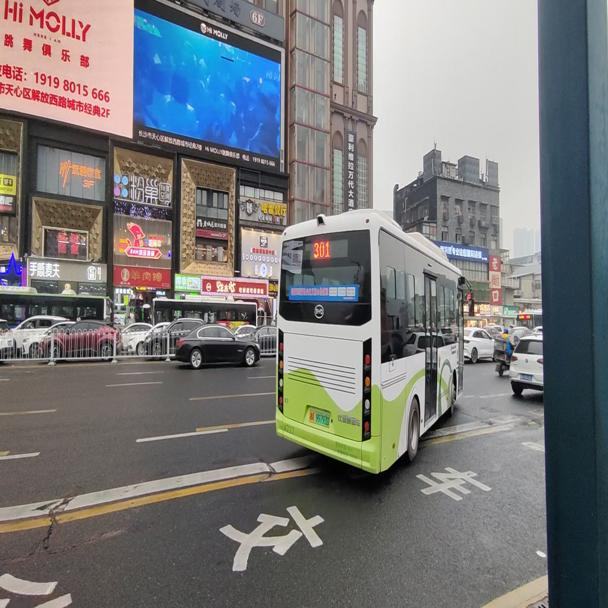bus: (273, 204, 474, 476), (514, 309, 542, 324)
screen: (313, 242, 329, 257)
